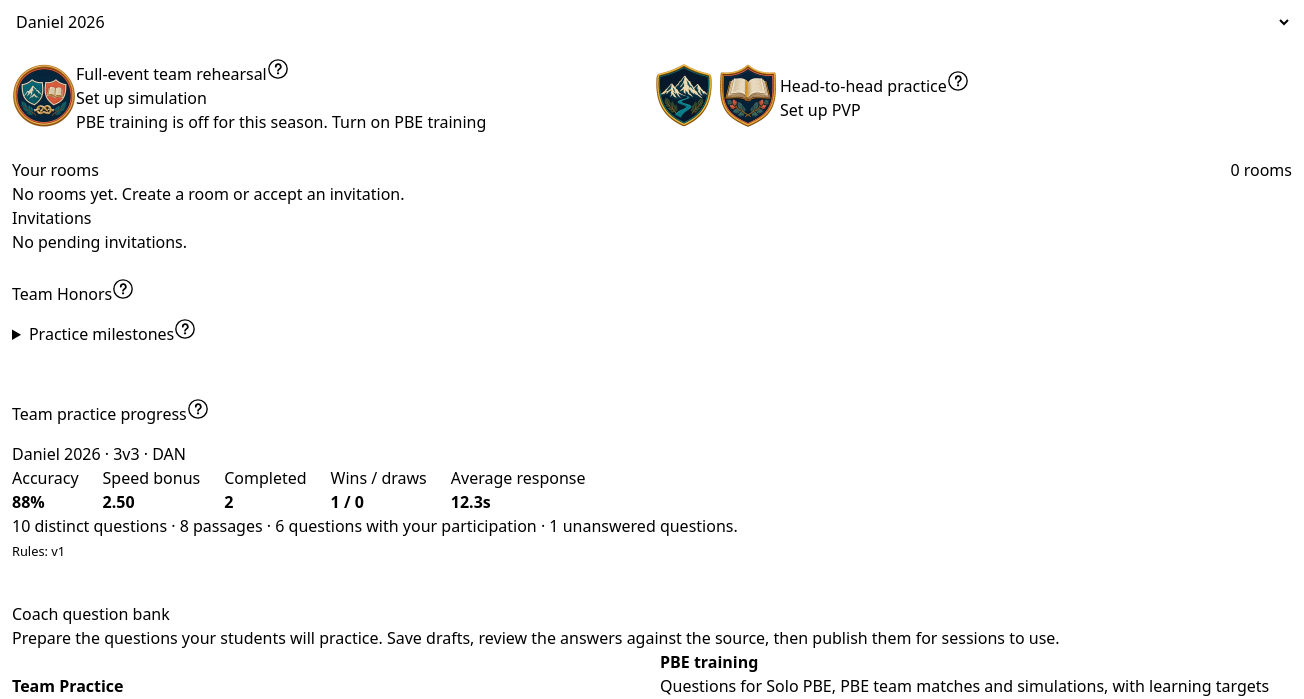
Test: Team Practice hub › preserves historical milestones and the returned participant-scoped trend
The width and height of the screenshot is (1304, 699).
(page scrolled)
Expected: the heading "Team Honors" is shown, [12,278,134,305]
Click the heading "Practice milestones" at (113, 331), box [29,318,196,345]
(page scrolled)
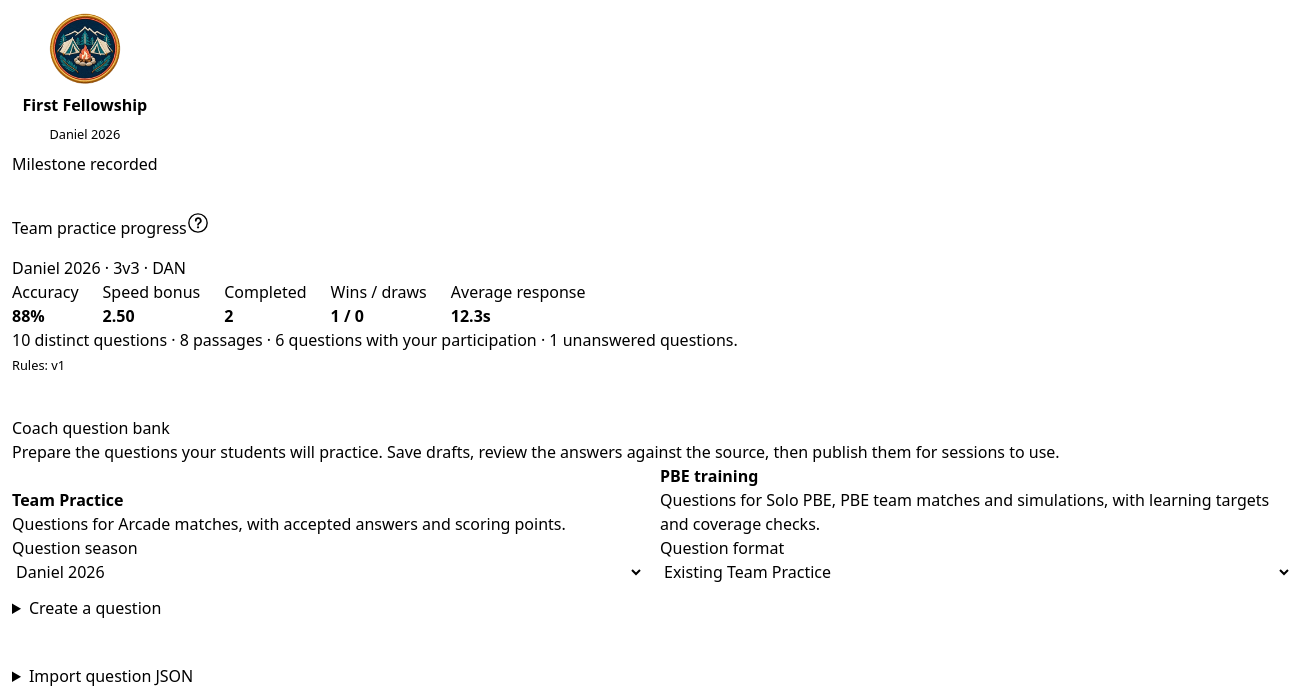
Expected: the text "88%" is shown, [12,305,45,327]
Result: the text "First Fellowship" is shown at [22,93,147,117]
Result: the text "Milestone recorded" is shown at [12,152,158,176]
